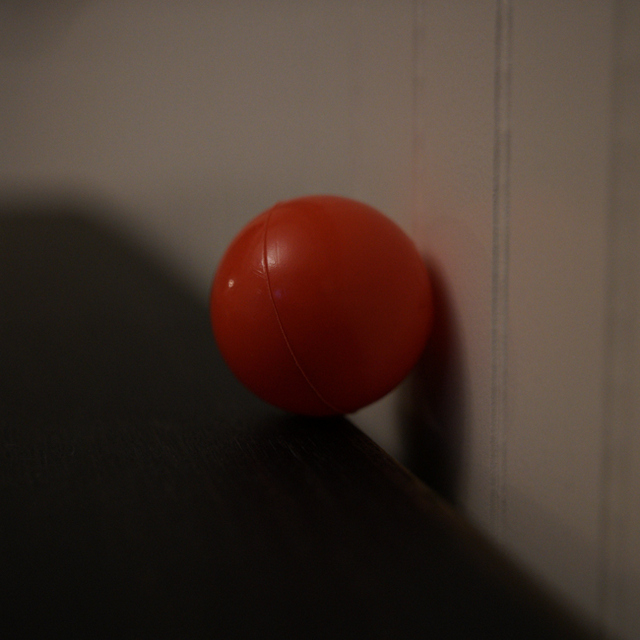Ball: (210, 195, 433, 416)
